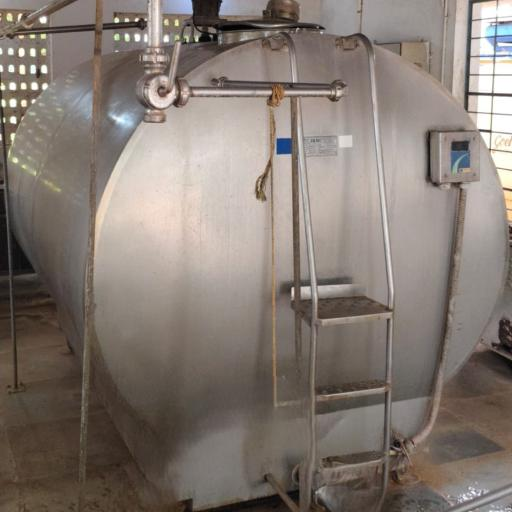silo: (4, 17, 509, 511)
